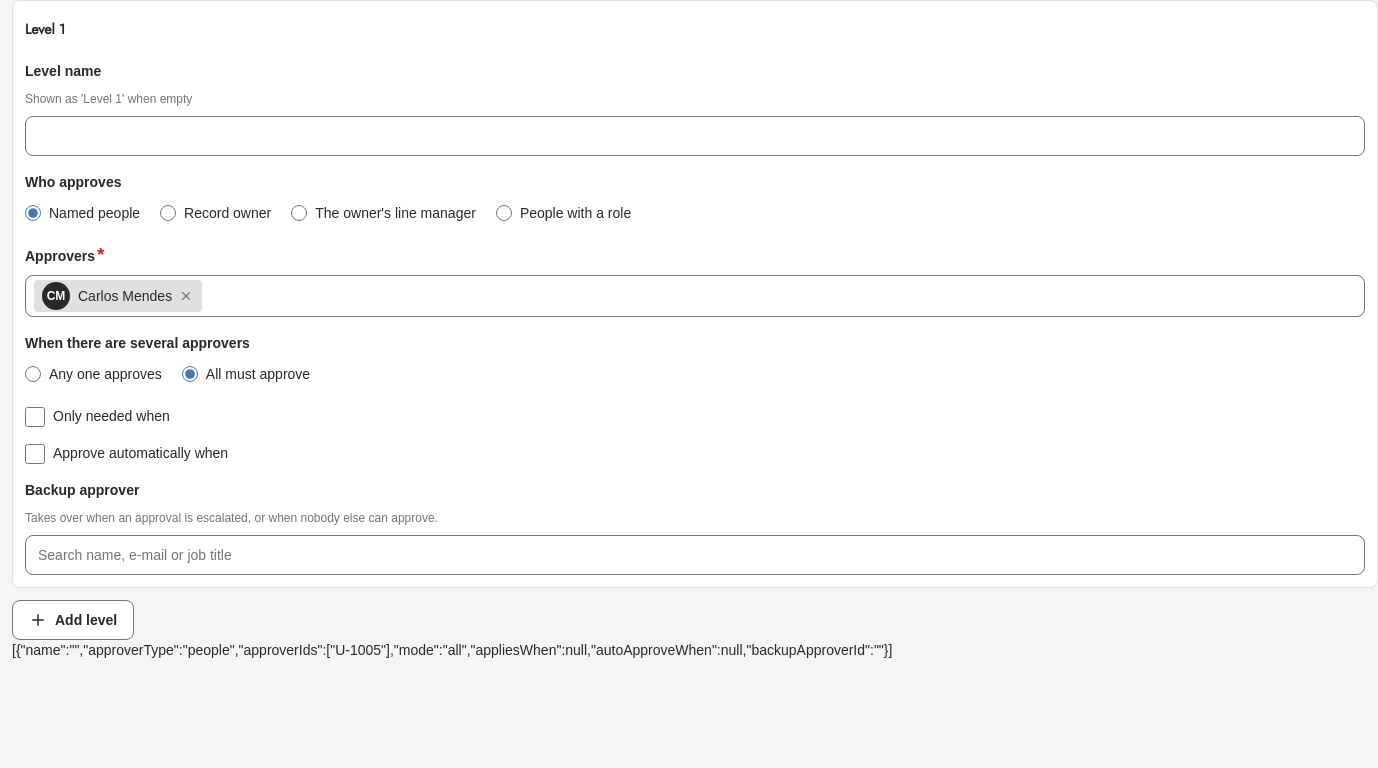
LevelsEditor rules (feature 017, US1 and US2) › the line manager approves alone: no approvers, no several-approvers choice (FR-001, FR-002)
Expected: the element "Who approves" is shown, [25,174,631,221]
Click the radio button labelled "The owner's line manager" at (299, 213), box [291,205,307,221]
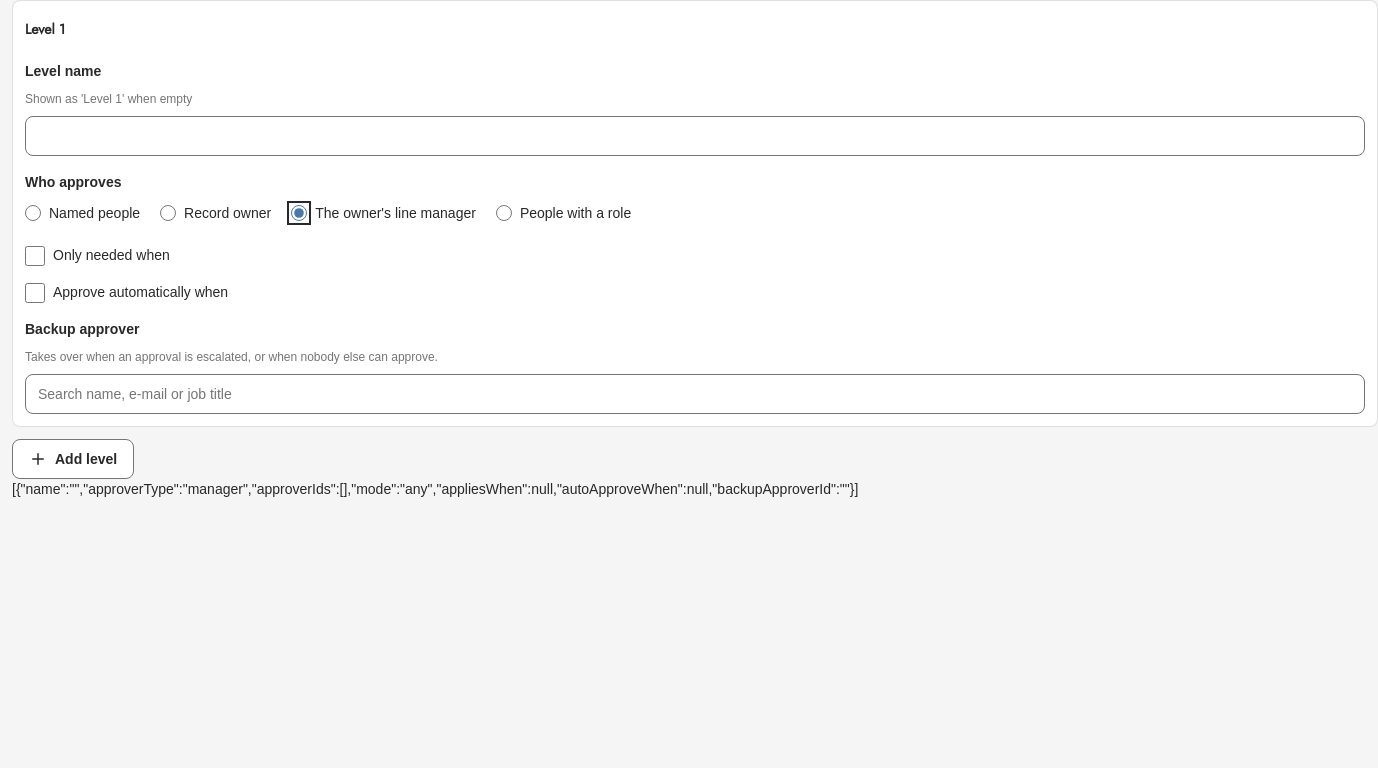
Now the label "Approvers" is gone
Now the text "When there are several approvers" is gone
